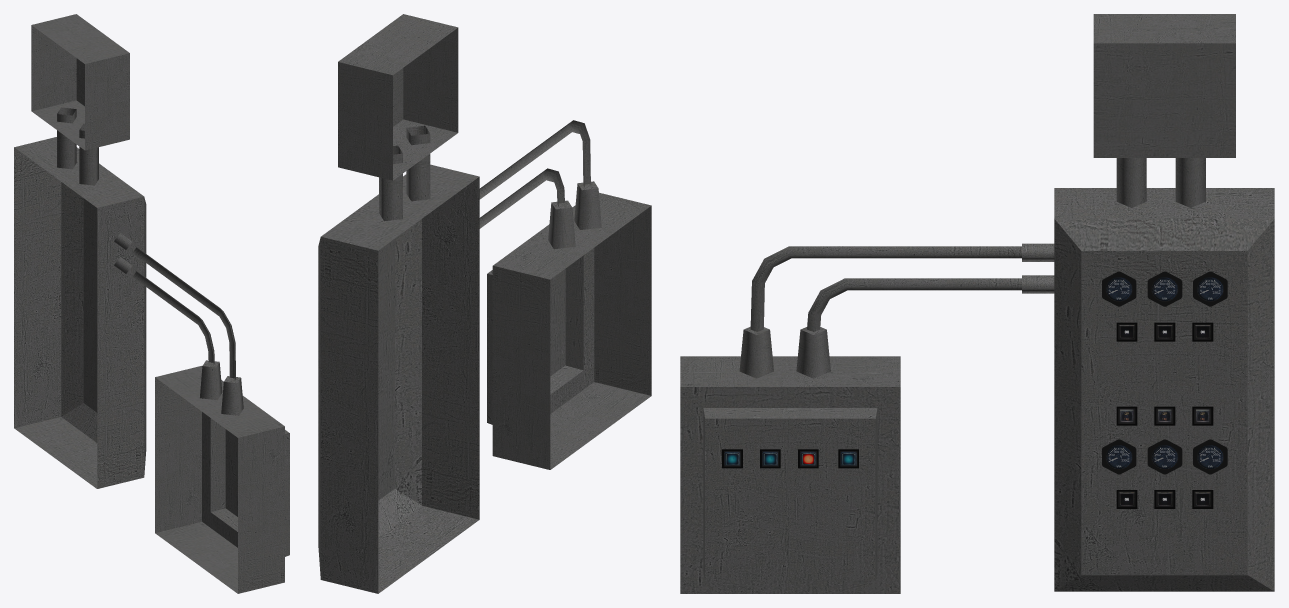
Rendered from p6_cic_mech_panel_c_white_lod2.glb.
The picture shows the model from 3 angles, left to right: view 1: azimuth 30°, elevation 25°; view 2: azimuth 150°, elevation 25°; view 3: azimuth 270°, elevation 25°; orthographic projection. The views are drawn at different scales.
Visible parts, largest first — view 1: surf1; view 2: surf1; view 3: surf1, surf0.
Boxes of the visible parts, x1,y1,x2,y2 form: surf1: (14, 14, 289, 593); surf1: (318, 14, 651, 593); surf1: (680, 14, 1274, 593); surf0: (722, 322, 1213, 508).
Bounding box in the file's own units: 10.59 × 68.46 × 66.92.
